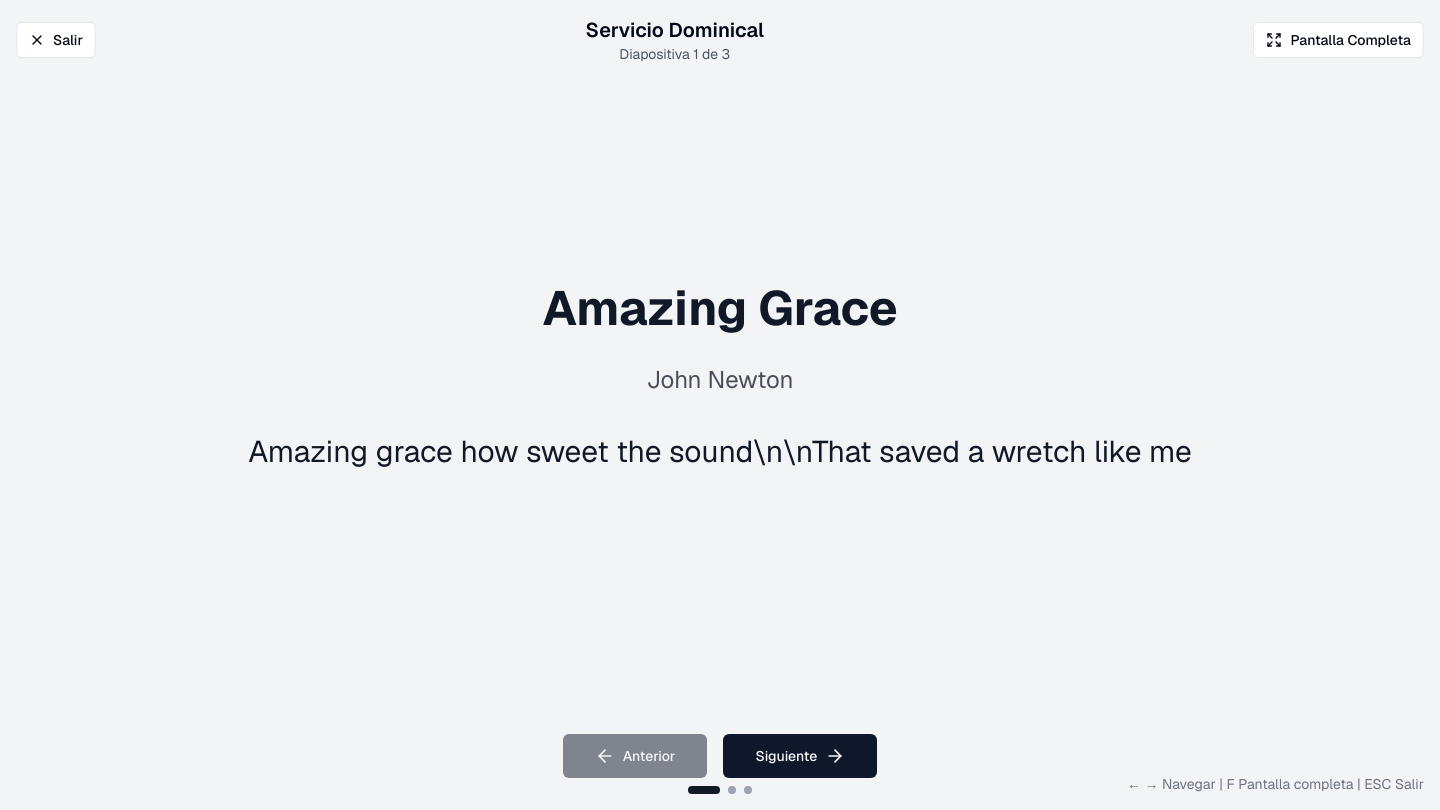
Test case: PresentationPage › navigates to slide using indicators
Expected: the heading "Amazing Grace" is shown, [542,277,898,339]
Click the 7th button. click: (748, 790)
box: [744,786,752,794]
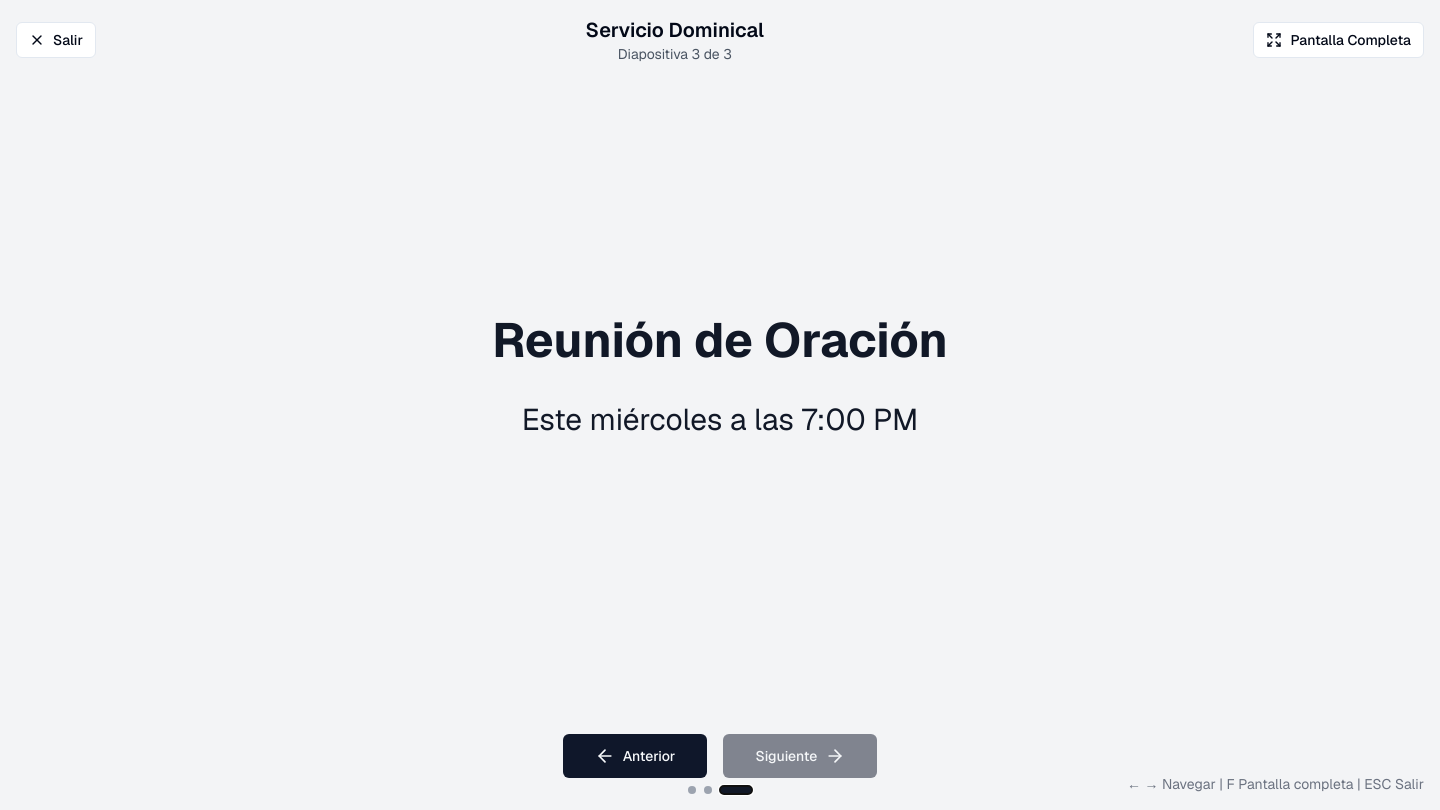
Result: the heading "Reunión de Oración" is shown at [492,316,948,364]
Result: the text "Diapositiva 3 de 3" is shown at [618,45,732,63]
